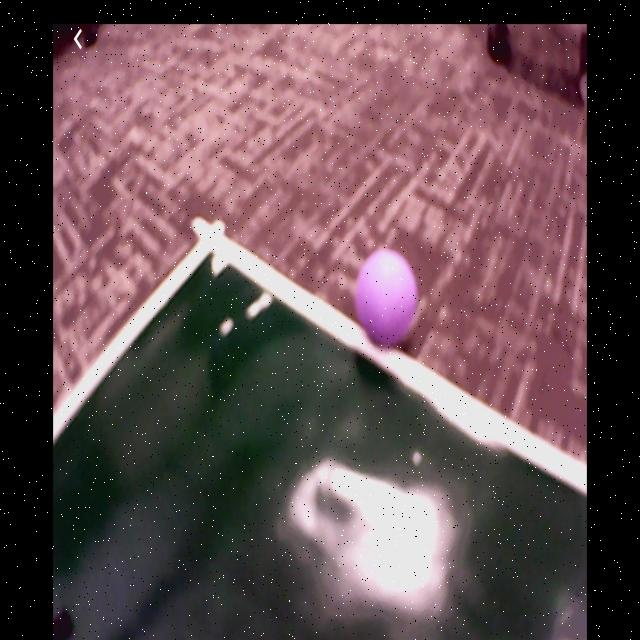ball: (357, 248, 417, 349)
